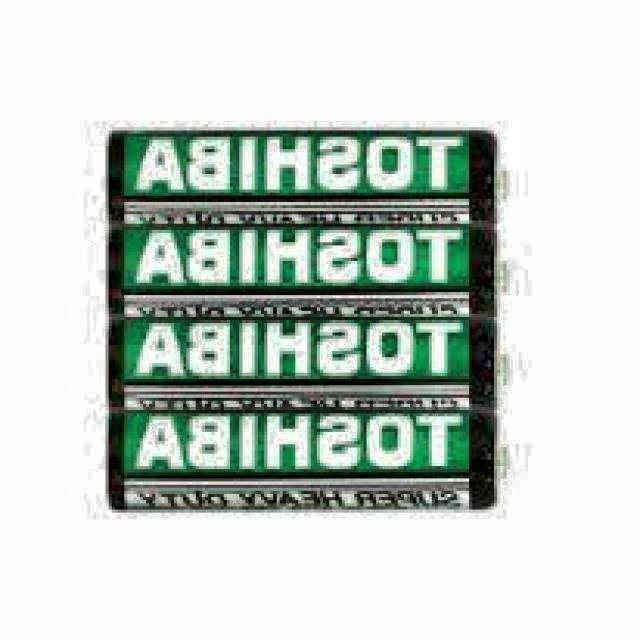battery: (106, 412, 510, 514), (102, 127, 509, 228), (105, 227, 510, 318)
